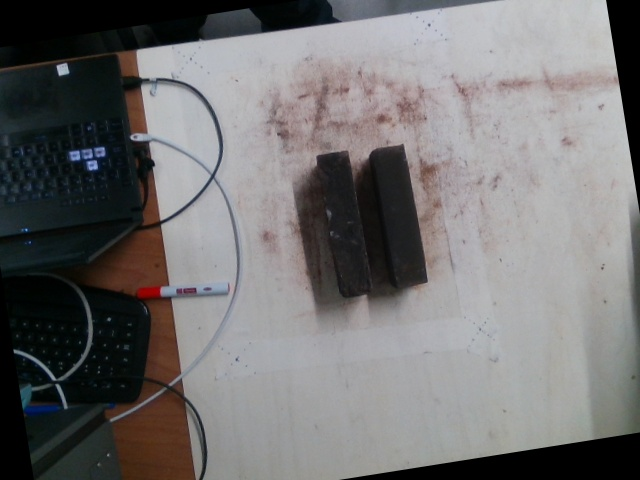brick-side: (371, 146, 429, 287), (316, 152, 372, 298)
